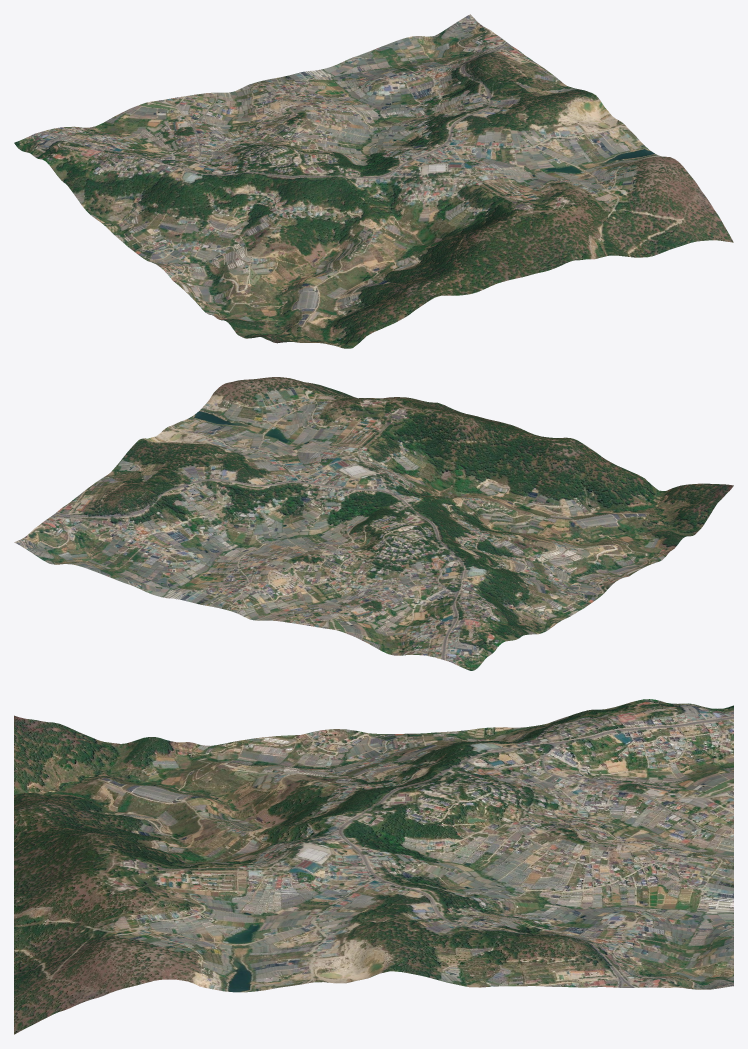
Rendered from terrain_real_T_E02_N00.glb.
3 views of the same model, one above another, from view 1: azimuth 30°, elevation 25°; view 2: azimuth 150°, elevation 25°; view 3: azimuth 270°, elevation 25° (orthographic). The views are drawn at different scales.
Parts seen in each view (by area): view 1: TerrainReal_T_E02_N00; view 2: TerrainReal_T_E02_N00; view 3: TerrainReal_T_E02_N00.
Part boxes in pixels (x1=…): TerrainReal_T_E02_N00: x1=14, y1=14, x2=733, y2=348; TerrainReal_T_E02_N00: x1=14, y1=377, x2=733, y2=670; TerrainReal_T_E02_N00: x1=14, y1=699, x2=733, y2=1034.
Size of the model in its own units: 2000 by 272 by 2000.
Materials: 1 (1 with a texture image).
